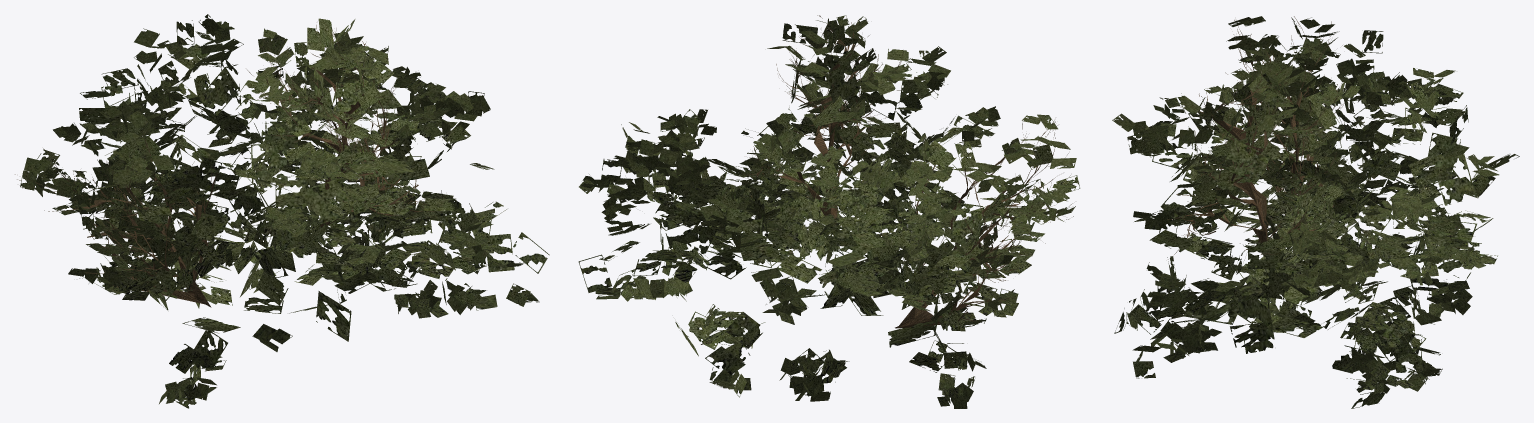
The model's file is tree-broadleaf.glb.
The picture shows the model from 3 angles, left to right: view 1: azimuth 30°, elevation 25°; view 2: azimuth 150°, elevation 25°; view 3: azimuth 270°, elevation 25°; orthographic projection. The views are drawn at different scales.
Parts seen in each view (by area): view 1: tree-broadleaf_LOD0; view 2: tree-broadleaf_LOD0; view 3: tree-broadleaf_LOD0.
Part boxes in pixels (x1,y1,x2,y2): tree-broadleaf_LOD0: (15, 14, 549, 408); tree-broadleaf_LOD0: (578, 15, 1080, 408); tree-broadleaf_LOD0: (1112, 16, 1519, 408).
Size of what is drawn, in the model's own units: 24.16 by 17.23 by 19.06.
Materials: 2 (2 with a texture image).
